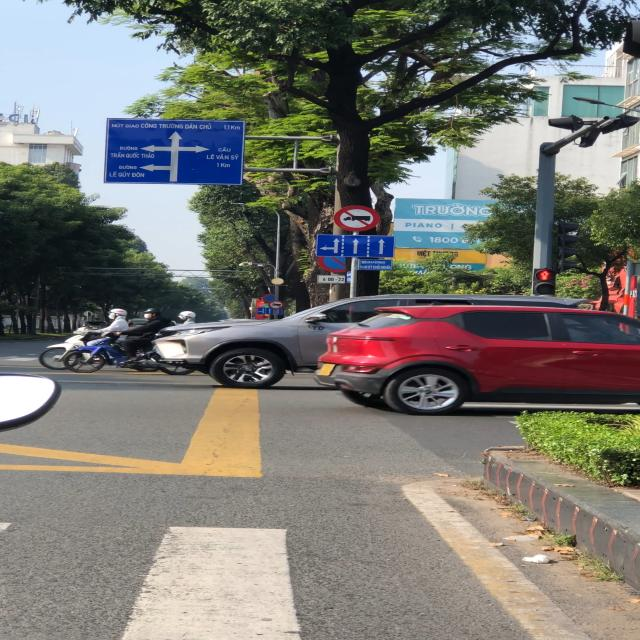Bien bao cam xe so-mi ro-mooc: (331, 204, 384, 233), (267, 301, 286, 310)
